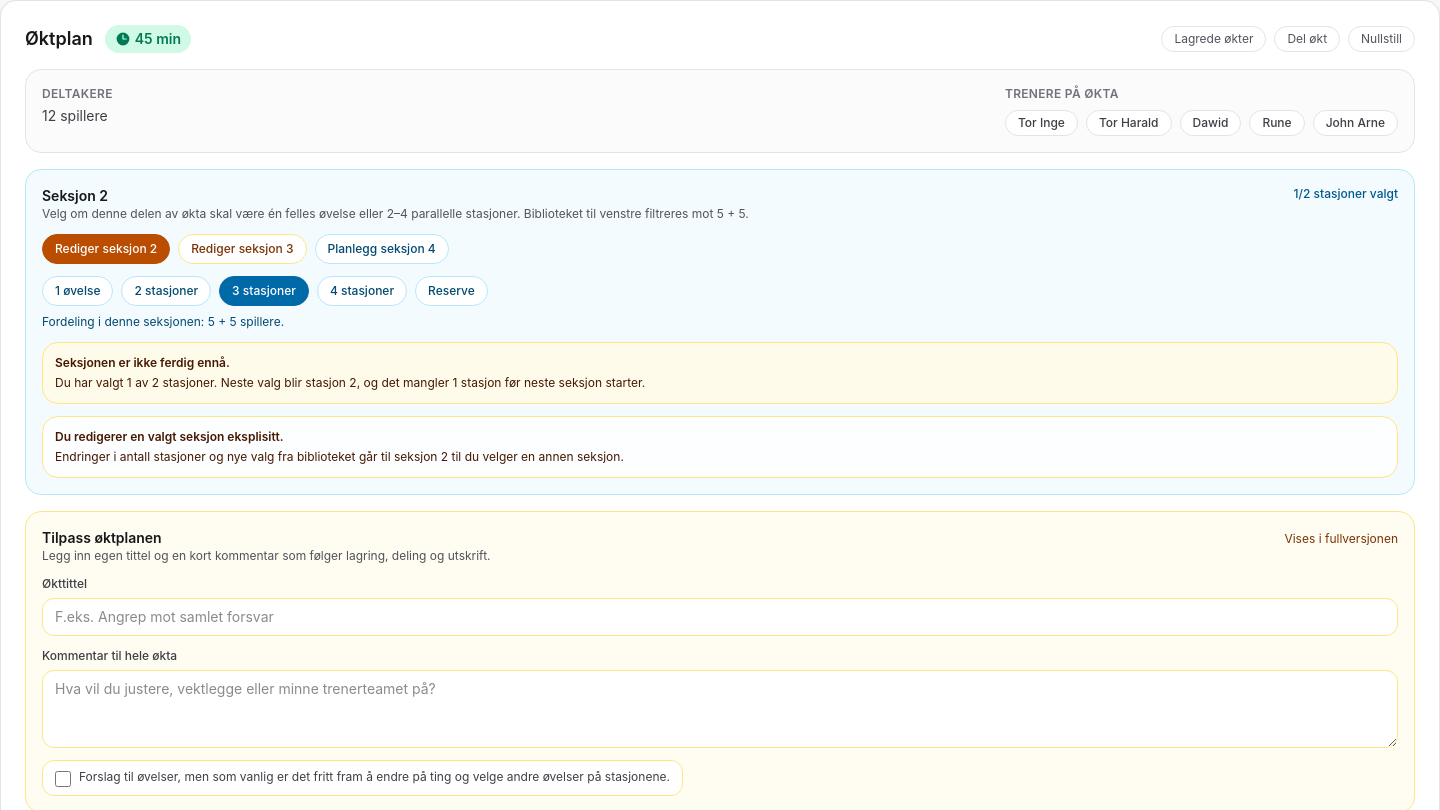
SessionTimeline sharing › lets the user switch back to an earlier incomplete section after starting a later one
Expected: the heading "Seksjon 2" is shown, [42,187,108,204]
Expected: the text "1/2 stasjoner valgt" is shown, [1294,186,1398,202]
Click the button "Rediger seksjon 3" at {"x": 242, "y": 249}, box [178,234,306,264]
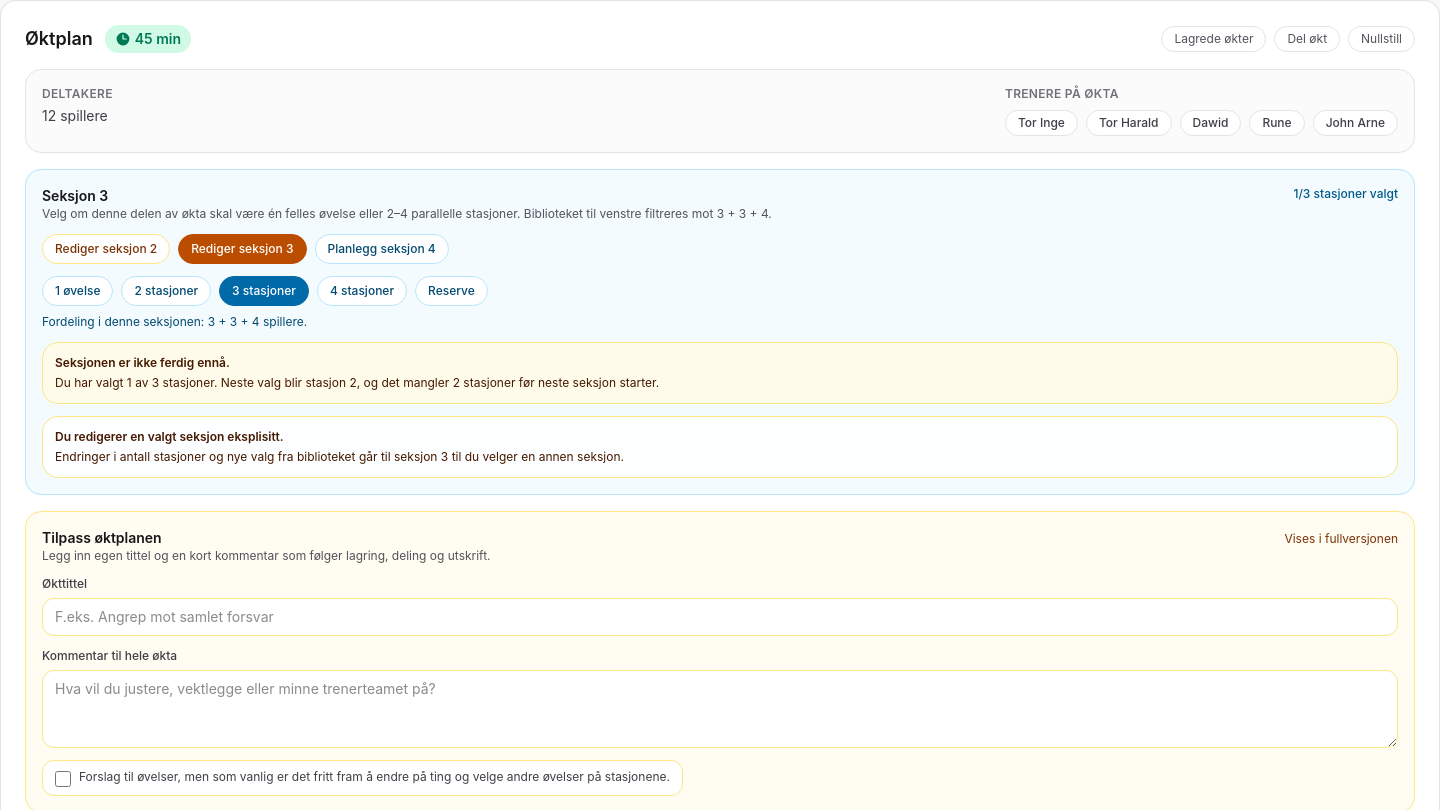
Expected: the heading "Seksjon 3" is shown, [42,187,108,204]
Expected: the text "1/3 stasjoner valgt" is shown, [1293,186,1398,202]
